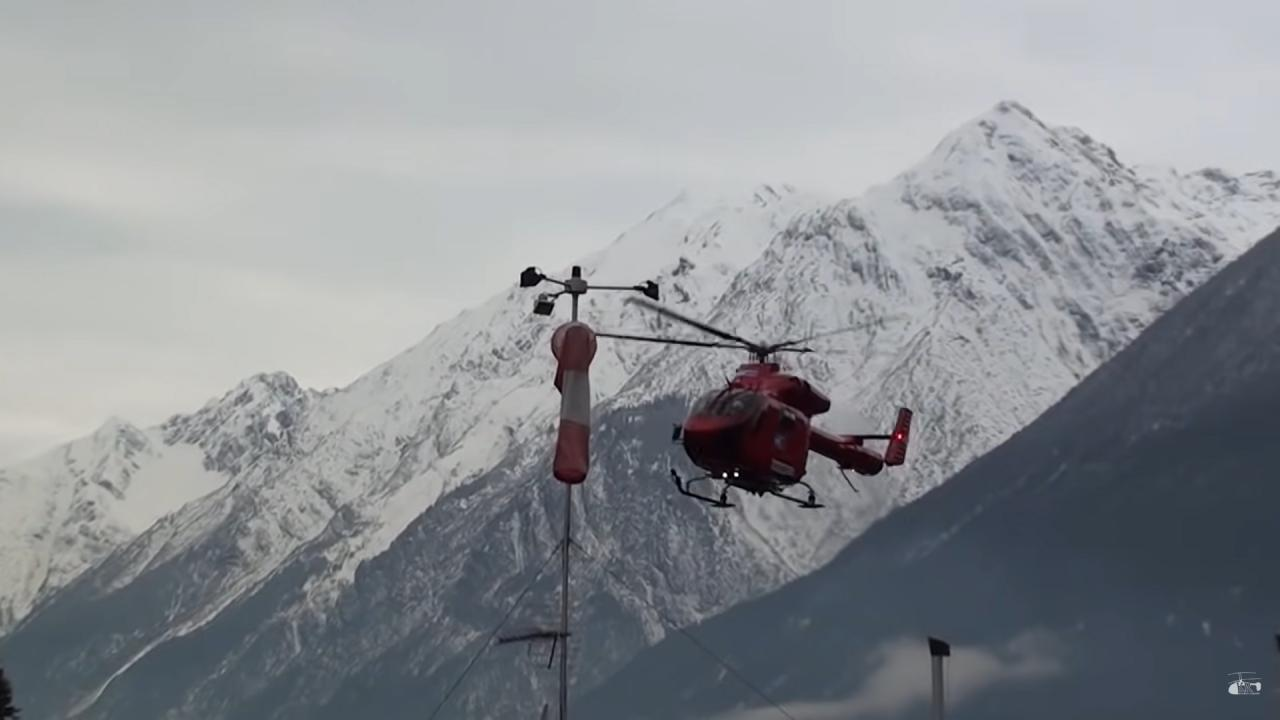Helicopter: (563, 289, 968, 537)
